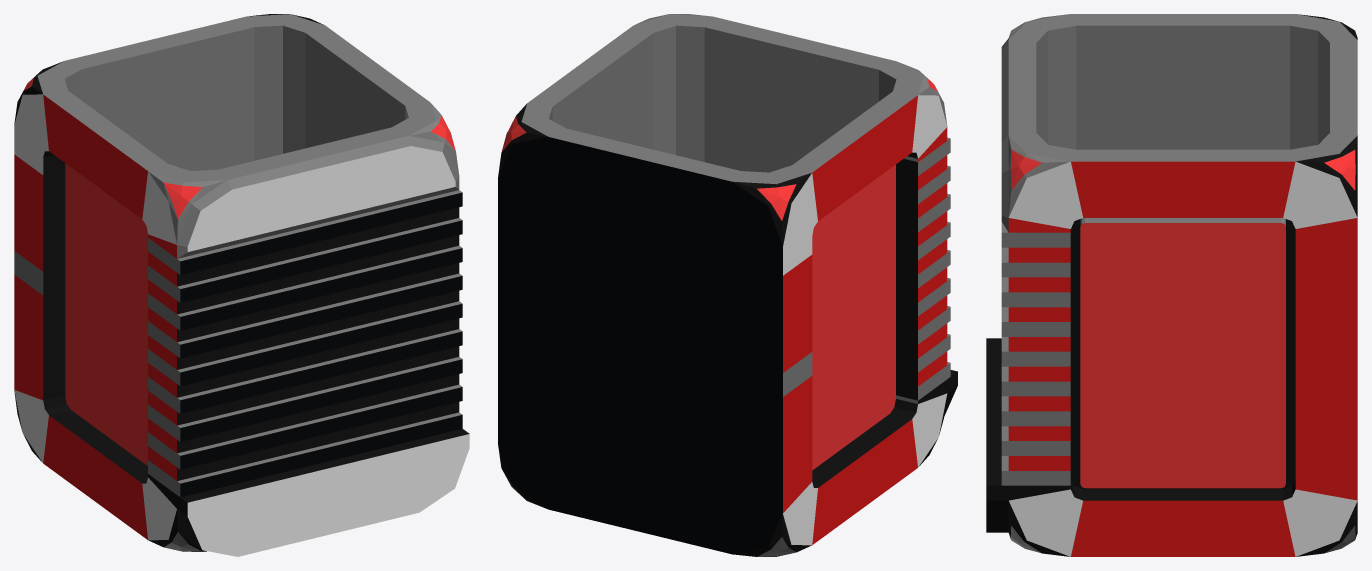
Rendered from another_Box.fbx.
The picture shows the model from 3 angles, left to right: view 1: azimuth 30°, elevation 25°; view 2: azimuth 150°, elevation 25°; view 3: azimuth 270°, elevation 25°; orthographic projection. The views are drawn at different scales.
Visible parts, largest first — view 1: Box001; view 2: Box001; view 3: Box001.
Boxes of the visible parts, x1=… form: Box001: x1=14, y1=14, x2=469, y2=556; Box001: x1=498, y1=14, x2=957, y2=556; Box001: x1=986, y1=14, x2=1357, y2=556.
Bounding box in the file's own units: 40 × 50 × 42.57.
